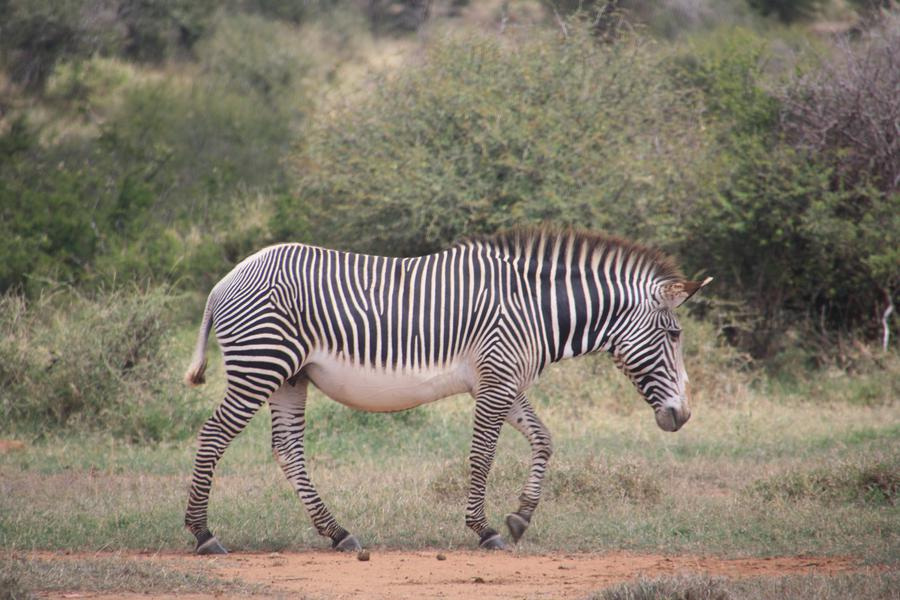zebra_grevys: (204, 225, 526, 399)
